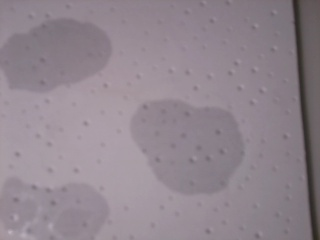Water_detected: (132, 104, 216, 191), (24, 17, 99, 76), (36, 191, 98, 234)
